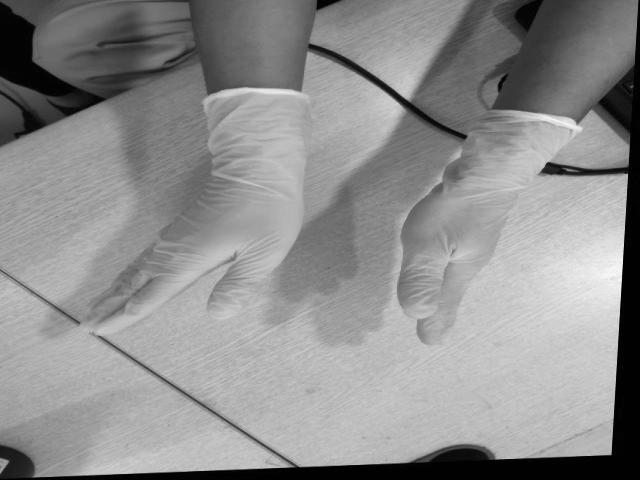gloved: (80, 169, 307, 333), (404, 167, 508, 347)
